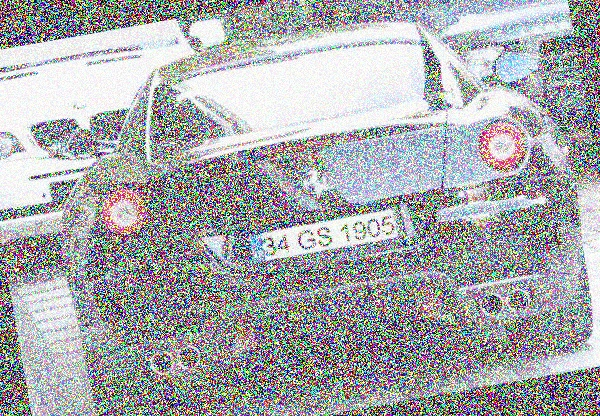plaka: (258, 214, 403, 261)
